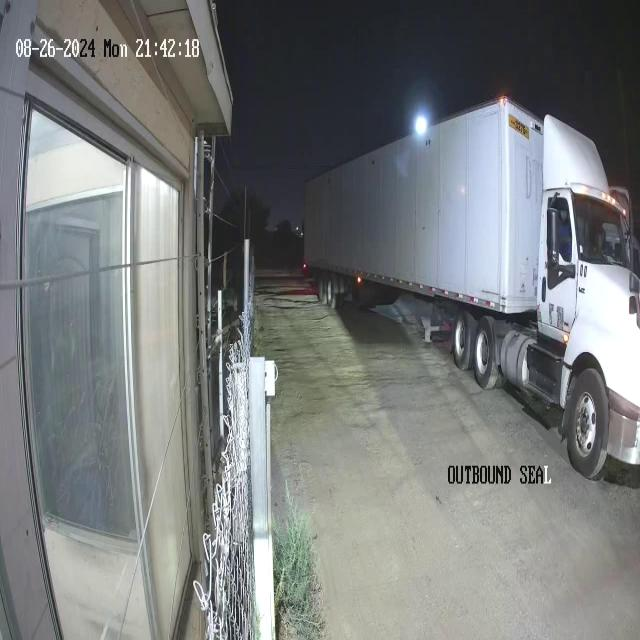TRUCK_CONTAINER: (302, 93, 639, 481)
